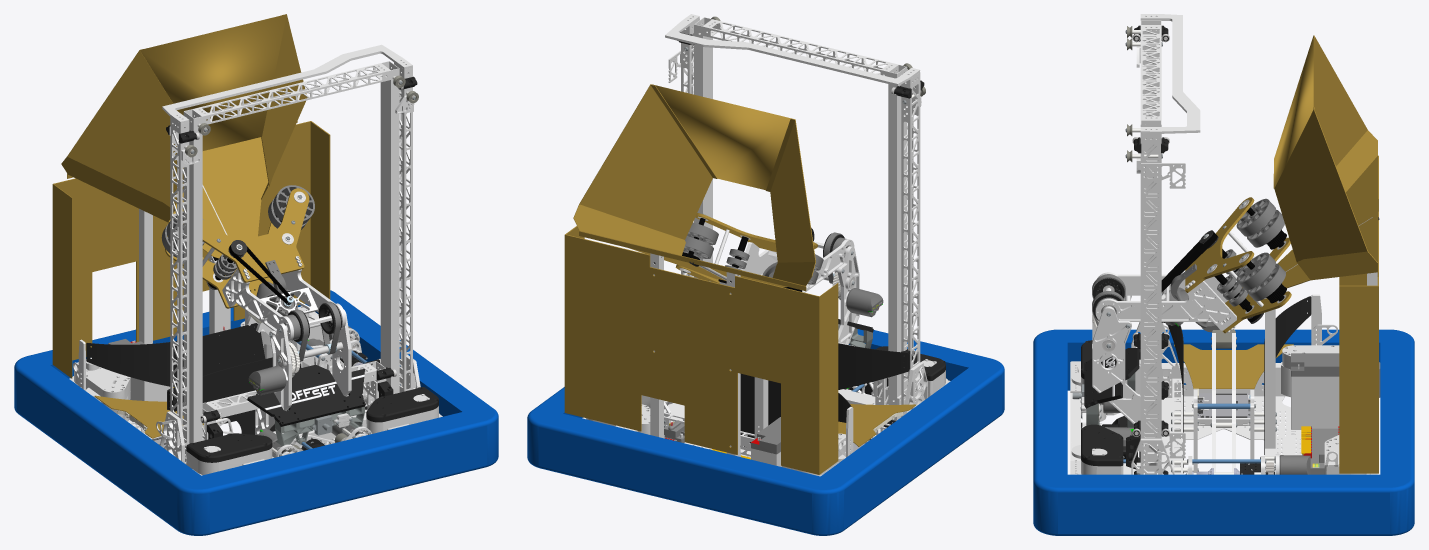
3 views of the same model, side by side, from view 1: azimuth 30°, elevation 25°; view 2: azimuth 150°, elevation 25°; view 3: azimuth 270°, elevation 25° (orthographic). The views are drawn at different scales.
Visible parts, largest first — view 1: OFFSET Bumpers:1__Solid1, New Funnel:1__Solid1, Back Cover:1__Solid1, New Funnel:1__Solid2, Secondary Rail Left:1__Solid1, Primary Rail Right:1__Solid1, Guide Plate Back:1__Solid1, Secondary Rail Right:1__Solid1, Primary Rail Left:1__Solid1, bottom plate v2:2__Solid1, Secondary Top Rail:1__Solid1, OFFSET Shield:1__Solid9 (+26 smaller); view 2: Back Cover:1__Solid1, OFFSET Bumpers:1__Solid1, New Funnel:1__Solid1, New Funnel:1__Solid2, Primary Rail Right:1__Solid1, Secondary Rail Right:1__Solid1, Secondary Top Rail:1__Solid1, Primary Stage Top Rail:1__Solid1, Guide Plate Front:1__Solid1, Guide Plate Back:1__Solid1, Secondary Rail Left:1__Solid1, Rio Cover Shield:1__Solid1 (+10 smaller); view 3: OFFSET Bumpers:1__Solid1, New Funnel:1__Solid1, Back Cover:1__Solid1, Primary Rail Left:1__Solid1, Robot Battery, Carriage Plate:2__Solid1, Belly Pan:1__Solid1, Rio Cover Shield:1__Solid1, Intake Arm:1__Solid1, New Funnel:1__Solid2, Secondary Rail Left:1__Solid1, Primary Stage Top Rail:1__Solid1 (+32 smaller).
Part boxes in pixels (bbox=[...]): OFFSET Bumpers:1__Solid1: bbox=[14, 290, 498, 535]; New Funnel:1__Solid1: bbox=[61, 14, 307, 258]; Back Cover:1__Solid1: bbox=[52, 121, 330, 378]; New Funnel:1__Solid2: bbox=[140, 14, 286, 150]; Secondary Rail Left:1__Solid1: bbox=[380, 61, 399, 393]; Primary Rail Right:1__Solid1: bbox=[170, 117, 189, 463]; Guide Plate Back:1__Solid1: bbox=[86, 323, 265, 423]; Secondary Rail Right:1__Solid1: bbox=[183, 109, 202, 461]; Primary Rail Left:1__Solid1: bbox=[394, 62, 412, 392]; bottom plate v2:2__Solid1: bbox=[183, 188, 309, 282]; Secondary Top Rail:1__Solid1: bbox=[193, 63, 390, 124]; OFFSET Shield:1__Solid9: bbox=[284, 364, 356, 424]; Back Cover:1__Solid1: bbox=[564, 226, 838, 474]; OFFSET Bumpers:1__Solid1: bbox=[527, 329, 1004, 535]; New Funnel:1__Solid1: bbox=[573, 84, 815, 291]; New Funnel:1__Solid2: bbox=[652, 84, 795, 190]; Primary Rail Right:1__Solid1: bbox=[901, 72, 920, 416]; Secondary Rail Right:1__Solid1: bbox=[888, 64, 907, 422]; Secondary Top Rail:1__Solid1: bbox=[703, 19, 897, 76]; Primary Stage Top Rail:1__Solid1: bbox=[665, 14, 920, 86]; Guide Plate Front:1__Solid1: bbox=[838, 343, 909, 389]; Guide Plate Back:1__Solid1: bbox=[740, 373, 851, 446]; Secondary Rail Left:1__Solid1: bbox=[694, 17, 712, 278]; Rio Cover Shield:1__Solid1: bbox=[838, 404, 915, 446]; OFFSET Bumpers:1__Solid1: bbox=[1033, 329, 1414, 535]; New Funnel:1__Solid1: bbox=[1274, 35, 1378, 288]; Back Cover:1__Solid1: bbox=[1339, 155, 1378, 473]; Primary Rail Left:1__Solid1: bbox=[1140, 134, 1161, 471]; Robot Battery: bbox=[1291, 353, 1339, 429]; Carriage Plate:2__Solid1: bbox=[1092, 306, 1140, 423]; Belly Pan:1__Solid1: bbox=[1123, 396, 1318, 474]; Rio Cover Shield:1__Solid1: bbox=[1174, 344, 1293, 388]; Intake Arm:1__Solid1: bbox=[1095, 281, 1236, 330]; New Funnel:1__Solid2: bbox=[1273, 35, 1313, 188]; Secondary Rail Left:1__Solid1: bbox=[1140, 120, 1161, 432]; Primary Stage Top Rail:1__Solid1: bbox=[1140, 14, 1200, 133].
Bounding box in the file's own units: 91.42 × 104 × 91.42.
